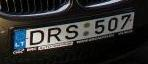0: (107, 17, 118, 32)
5: (94, 18, 105, 35)
7: (120, 13, 132, 30)
D: (29, 30, 45, 46)
R: (47, 27, 62, 43)
S: (64, 24, 78, 40)
